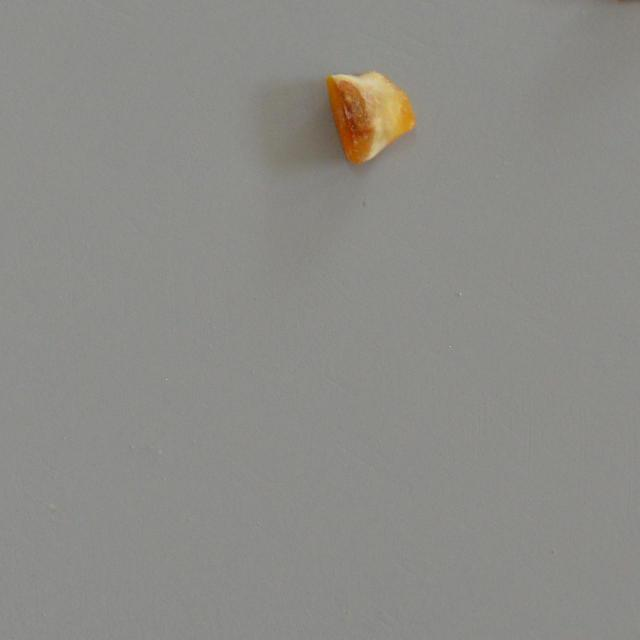dañado: (324, 70, 422, 166)
